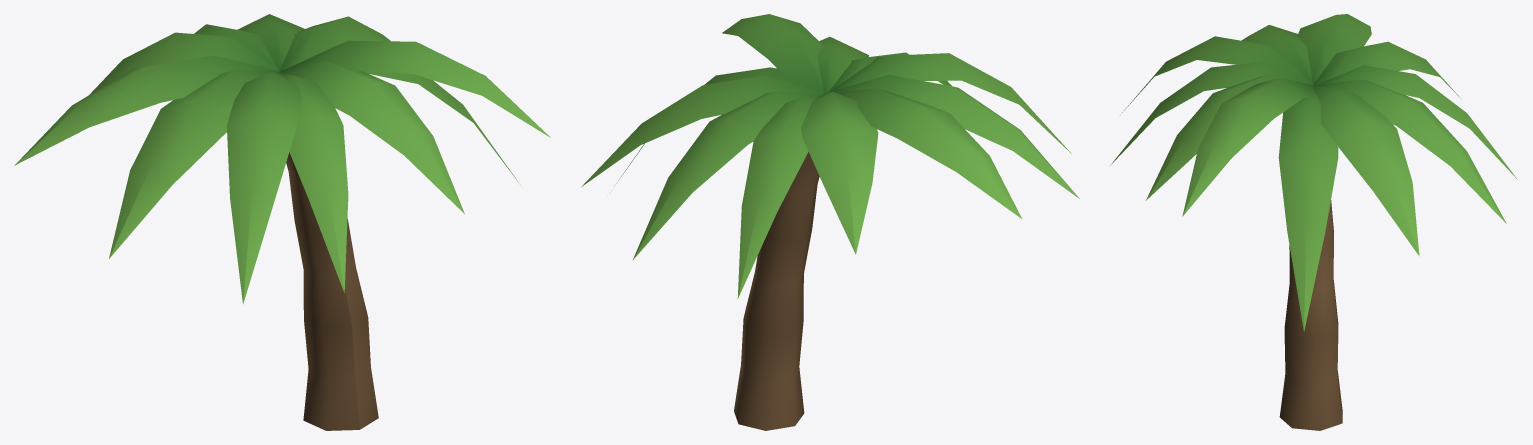
The model's file is palmera_1.glb.
3 renders of one model, left to right at view 1: azimuth 30°, elevation 25°; view 2: azimuth 150°, elevation 25°; view 3: azimuth 270°, elevation 25°, orthographic. The views are drawn at different scales.
Visible parts, largest first — view 1: palmera_1; view 2: palmera_1; view 3: palmera_1.
Part boxes in pixels (x1,y1,x2,y2): palmera_1: [14, 14, 550, 430]; palmera_1: [581, 14, 1079, 430]; palmera_1: [1110, 14, 1517, 430].
Size of the model in its own units: 1.18 by 0.9256 by 1.02.
